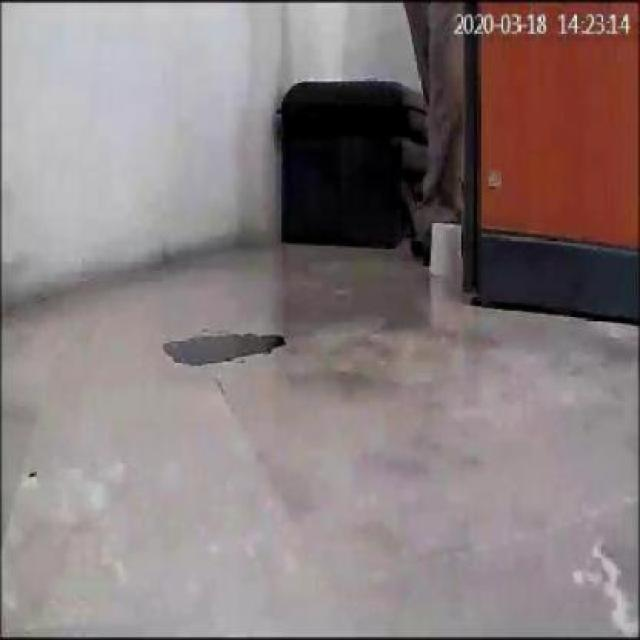spillage: (165, 328, 293, 372)
